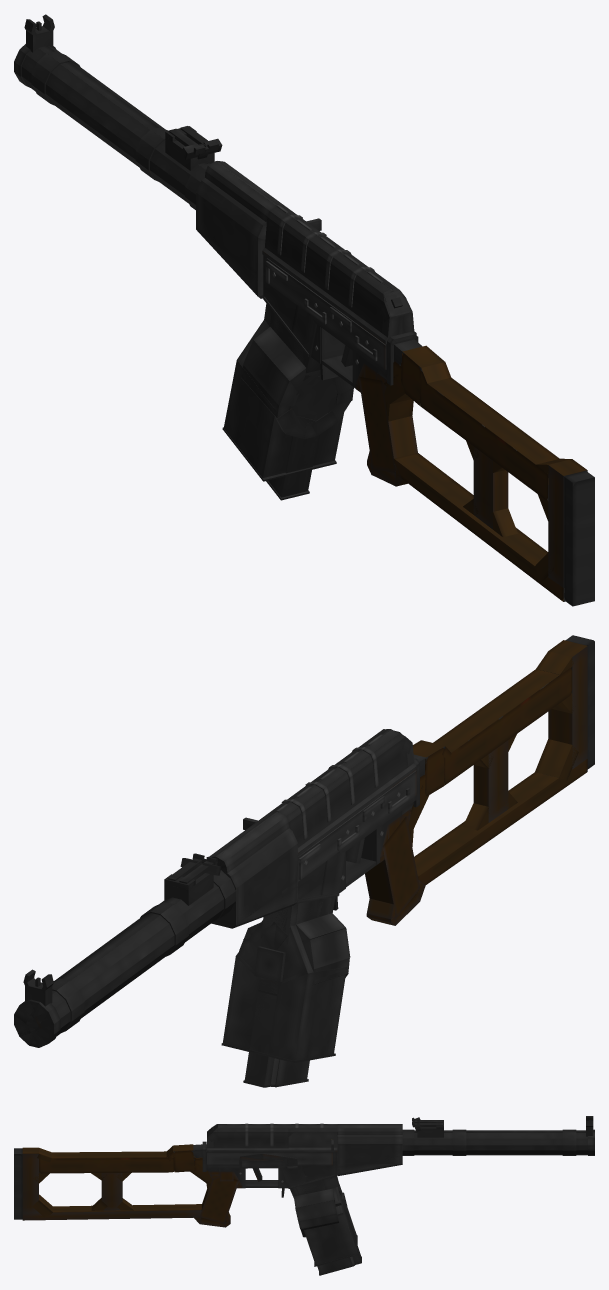
The model's file is a8_vss.geo.fbx.
3 views of the same model, one above another, from view 1: azimuth 30°, elevation 25°; view 2: azimuth 150°, elevation 25°; view 3: azimuth 270°, elevation 25° (orthographic). The views are drawn at different scales.
Visible parts, largest first — view 1: bone, stock1, handguard, bone6, magazine6, bone26, bone30, gun, dustcover, pgriptrigger, bone18, bone3 (+4 smaller); view 2: bone, handguard, bone26, stock1, bone6, bone30, magazine6, gun, dustcover, magazine10, bone18, pgriptrigger (+5 smaller); view 3: bone, stock1, handguard, bone6, bone31, bone26, gun, magazine6, dustcover, pgriptrigger, bolt, switch (+8 smaller).
Boxes of the visible parts, x1,y1,x2,y2 form: bone: (358, 376, 594, 606); stock1: (384, 339, 571, 500); handguard: (24, 14, 285, 298); bone6: (21, 45, 208, 203); magazine6: (241, 322, 353, 439); bone26: (222, 360, 343, 481); bone30: (265, 211, 402, 338); gun: (263, 255, 418, 385); dustcover: (262, 205, 417, 345); pgriptrigger: (311, 325, 386, 388); bone18: (266, 435, 318, 500); bone3: (263, 296, 317, 357); bone: (365, 635, 594, 925); handguard: (23, 811, 297, 1006); bone26: (221, 956, 346, 1062); stock1: (408, 651, 573, 846); bone6: (51, 883, 223, 1035); bone30: (286, 733, 414, 847); magazine6: (239, 897, 350, 984); gun: (298, 758, 419, 899); dustcover: (270, 729, 419, 856); magazine10: (236, 903, 346, 983); bone18: (243, 979, 309, 1087); pgriptrigger: (333, 802, 413, 910); bone: (14, 1147, 238, 1227); stock1: (37, 1144, 211, 1192); handguard: (337, 1116, 593, 1175); bone6: (414, 1130, 587, 1155); bone31: (207, 1128, 337, 1148); bone26: (304, 1207, 357, 1266); gun: (202, 1141, 337, 1175); magazine6: (290, 1180, 347, 1237); dustcover: (202, 1123, 337, 1152); pgriptrigger: (206, 1168, 287, 1197); bolt: (288, 1132, 336, 1150); switch: (239, 1153, 297, 1168).
Bounding box in the file's own units: 52.82 × 194 × 667.
1 material, 1 textured.
